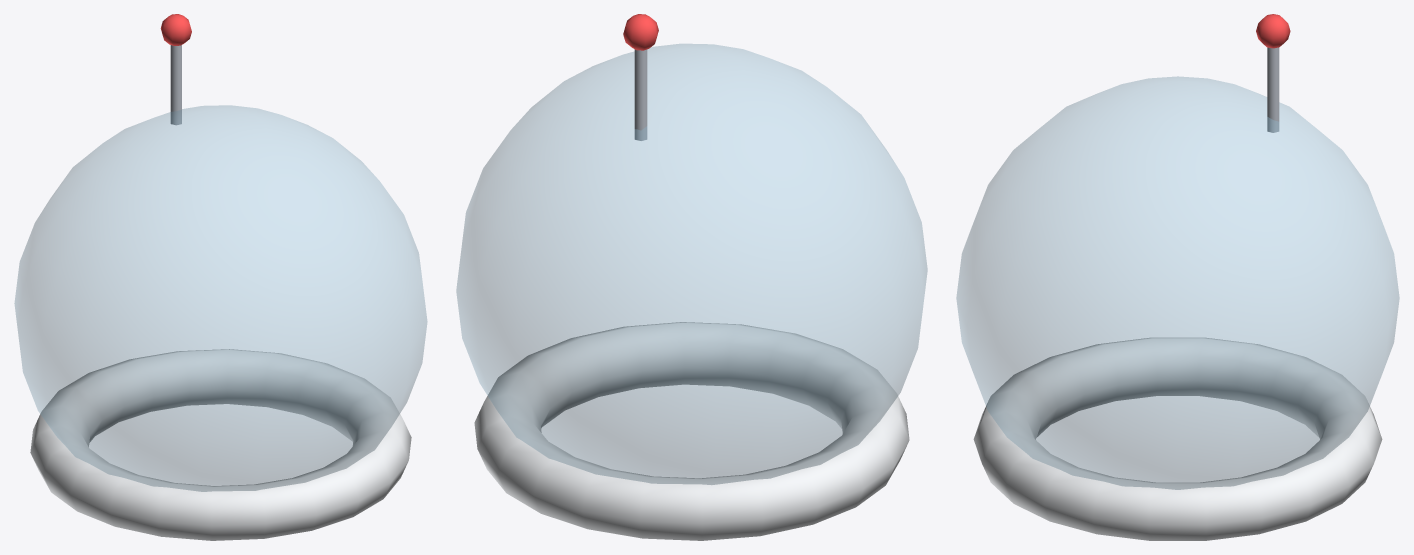
The model's file is hat_astronaut.glb.
3 views of the same model, side by side, from view 1: azimuth 30°, elevation 25°; view 2: azimuth 150°, elevation 25°; view 3: azimuth 270°, elevation 25° (orthographic). The views are drawn at different scales.
Visible parts, largest first — view 1: Hat; view 2: Hat; view 3: Hat.
Boxes of the visible parts, x1=… form: Hat: x1=14, y1=14, x2=427, y2=540; Hat: x1=456, y1=14, x2=927, y2=540; Hat: x1=956, y1=14, x2=1399, y2=540.
Bounding box in the file's own units: 0.768 × 0.924 × 0.768.
